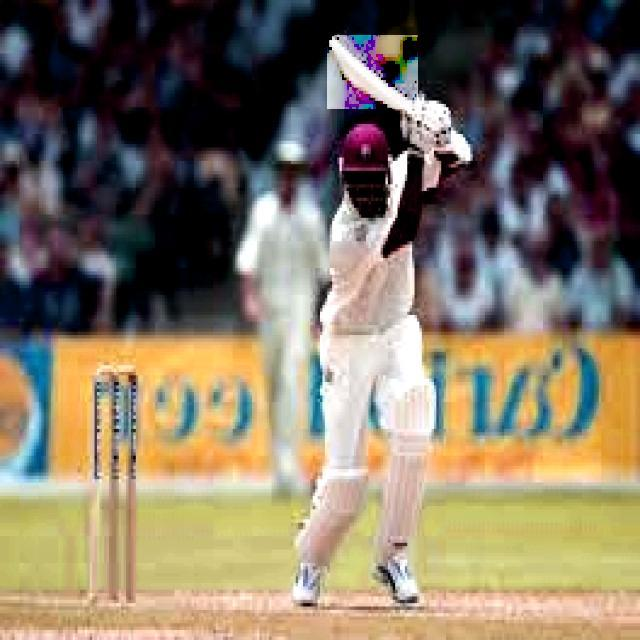bat: (330, 33, 419, 106)
